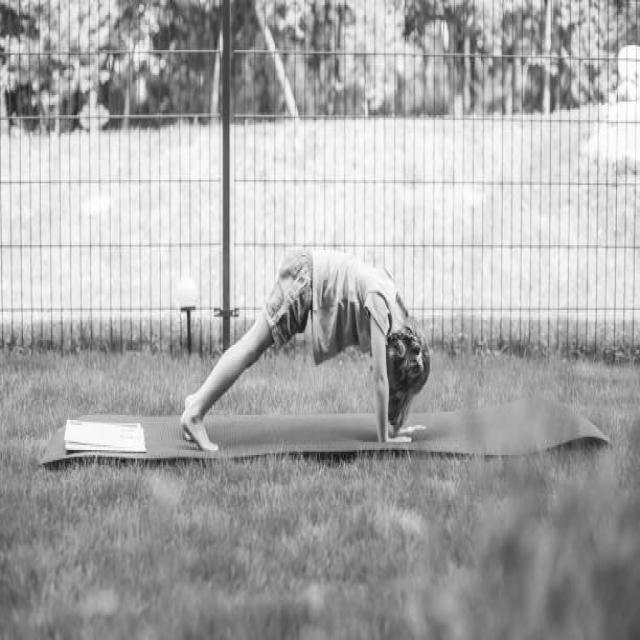Downward-Facing_Dog: (174, 241, 441, 461)
